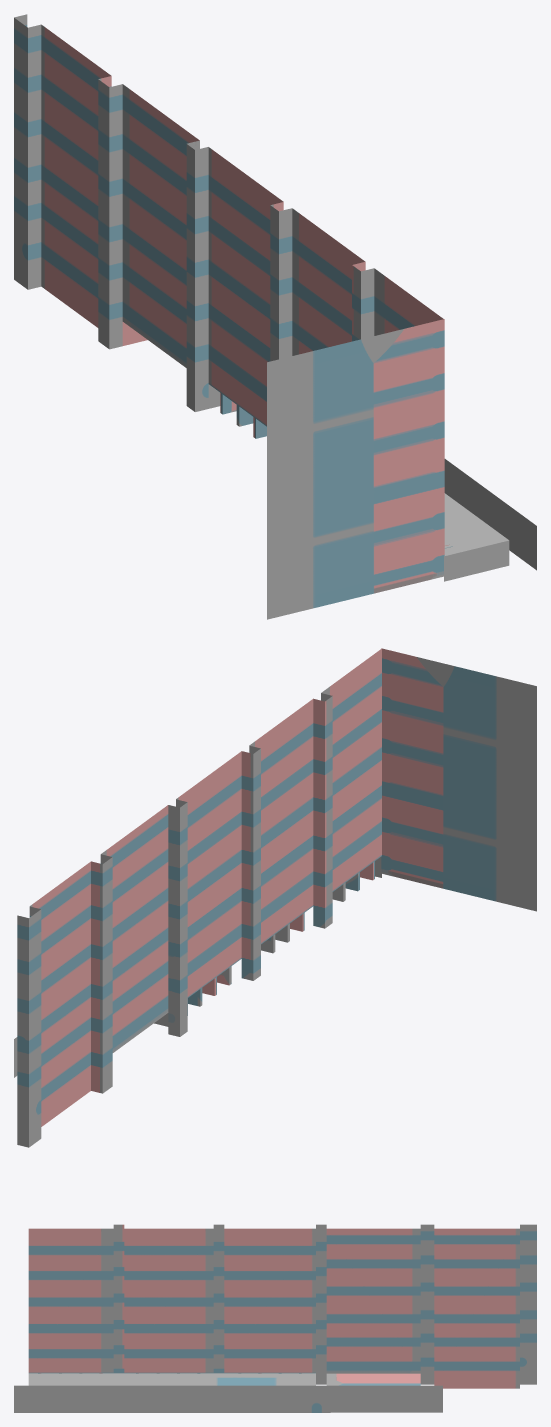
File: hdb_env_5.fbx
3 renders of one model, top to bottom at view 1: azimuth 30°, elevation 25°; view 2: azimuth 150°, elevation 25°; view 3: azimuth 270°, elevation 25°, orthographic. The views are drawn at different scales.
Parts seen in each view (by area): view 1: polySurface1, pCube7, polySurface2; view 2: polySurface1, pCube7; view 3: polySurface1, polySurface2.
Part boxes in pixels (bbox=[...]): polySurface1: bbox=[14, 14, 509, 581]; pCube7: bbox=[267, 319, 444, 619]; polySurface2: bbox=[444, 459, 536, 570]; polySurface1: bbox=[17, 648, 381, 1147]; pCube7: bbox=[381, 648, 536, 911]; polySurface1: bbox=[28, 1224, 536, 1388]; polySurface2: bbox=[14, 1385, 442, 1412].
Bounding box in the file's own units: 5.35 × 5.21 × 15.41.
1 material, 1 textured.
